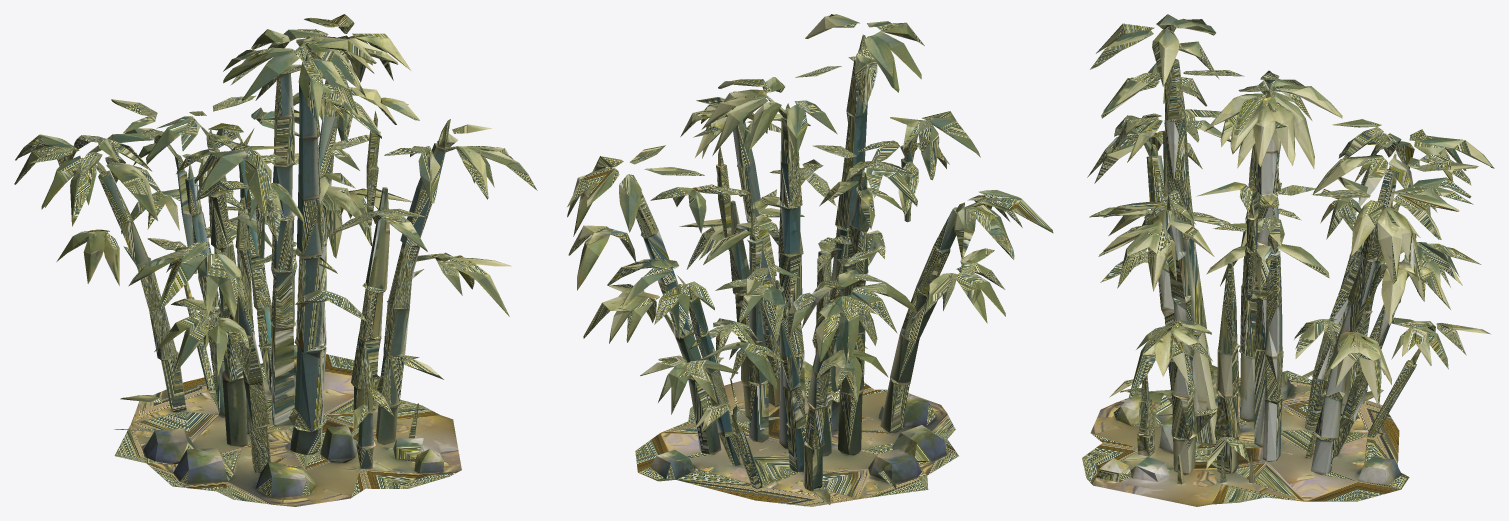
Rendered from bamboo-grove.glb.
3 views of the same model, side by side, from view 1: azimuth 30°, elevation 25°; view 2: azimuth 150°, elevation 25°; view 3: azimuth 270°, elevation 25° (orthographic). The views are drawn at different scales.
Parts seen in each view (by area): view 1: mesh_uv.obj; view 2: mesh_uv.obj; view 3: mesh_uv.obj.
Part boxes in pixels (x1,y1,x2,y2): mesh_uv.obj: [14, 14, 537, 506]; mesh_uv.obj: [567, 14, 1053, 506]; mesh_uv.obj: [1082, 14, 1494, 506].
Bounding box in the file's own units: 1.68 × 1.79 × 1.63.
1 material, 1 textured.
